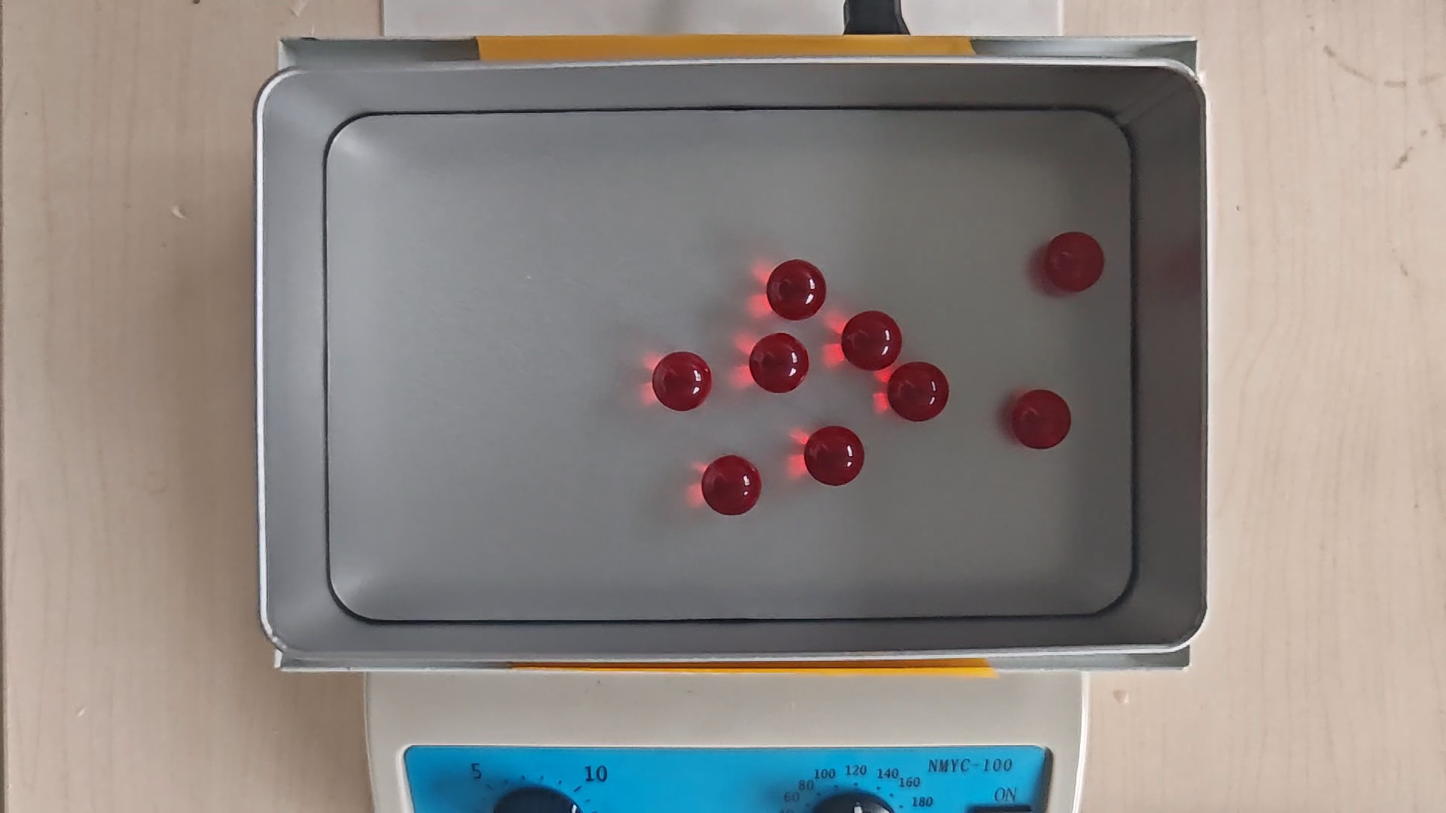ball: (1042, 231, 1106, 296), (886, 361, 951, 423), (839, 309, 902, 372), (1008, 388, 1072, 450), (652, 351, 714, 413), (748, 332, 810, 394), (766, 258, 827, 321), (701, 455, 763, 516), (803, 425, 865, 486)
container: (323, 112, 1136, 618)
